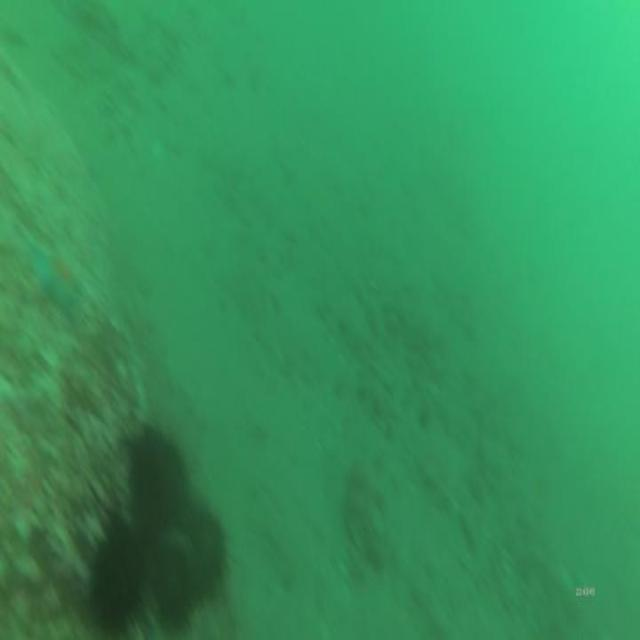echinus: (124, 425, 194, 550), (86, 511, 148, 632), (174, 502, 230, 614), (146, 536, 194, 630)
starfish: (24, 236, 90, 330)
